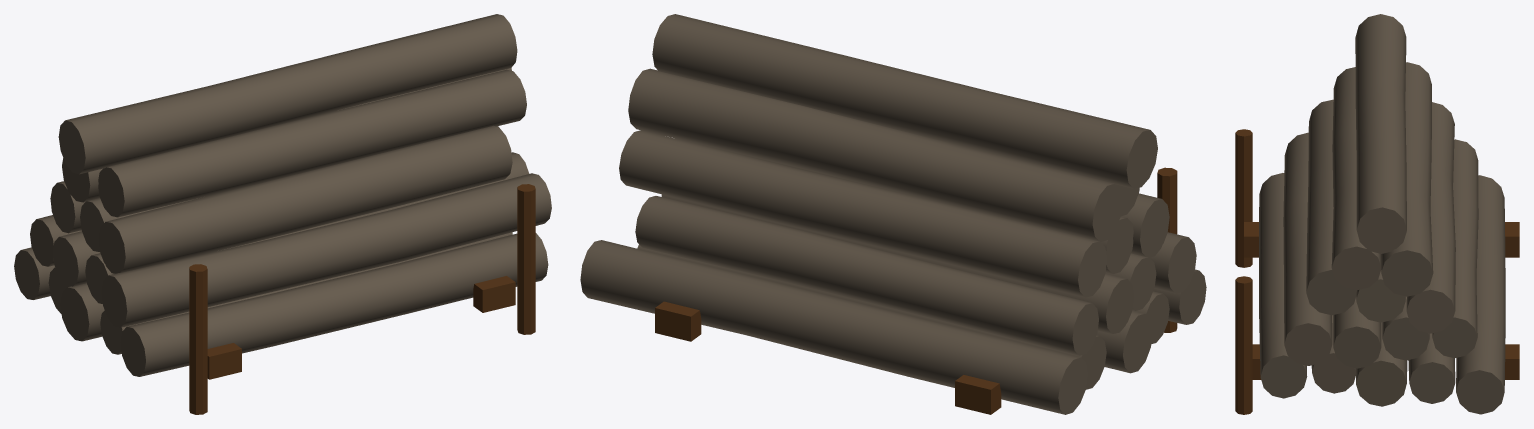
The model's file is brennholzstapel.glb.
3 views of the same model, side by side, from view 1: azimuth 30°, elevation 25°; view 2: azimuth 150°, elevation 25°; view 3: azimuth 270°, elevation 25° (orthographic). The views are drawn at different scales.
Visible parts, largest first — view 1: brennholzstapel; view 2: brennholzstapel; view 3: brennholzstapel.
Part boxes in pixels (x1,y1,x2,y2): brennholzstapel: [14, 14, 551, 414]; brennholzstapel: [580, 14, 1206, 414]; brennholzstapel: [1235, 14, 1519, 414].
Size of the model in its own units: 1.63 by 0.8652 by 0.98.
